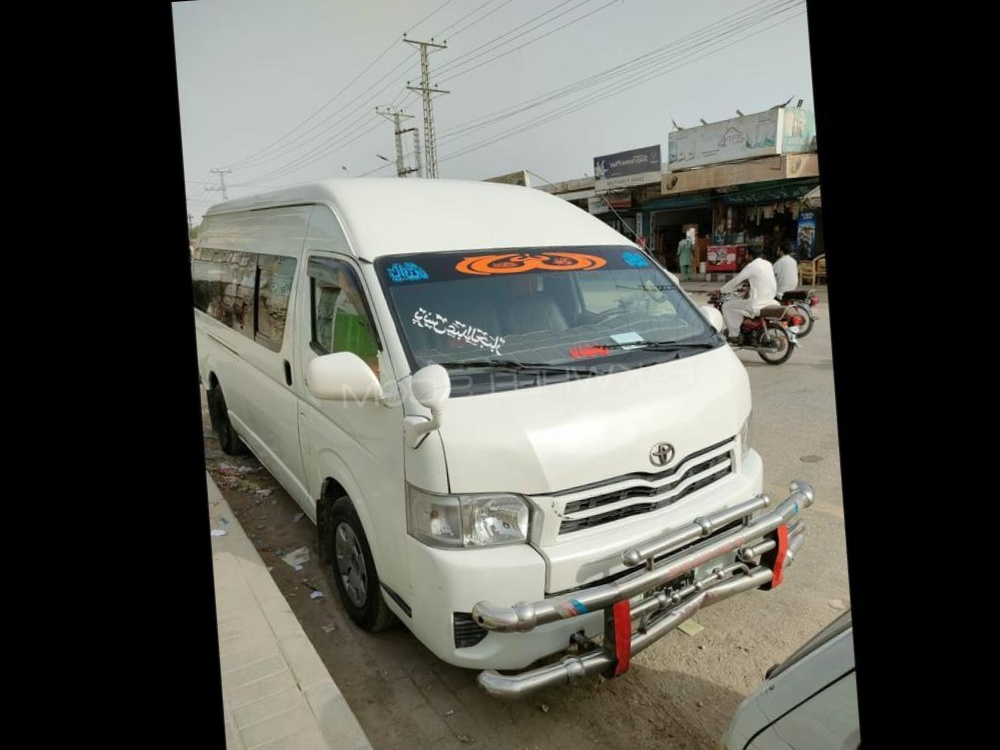van: (184, 141, 778, 702)
